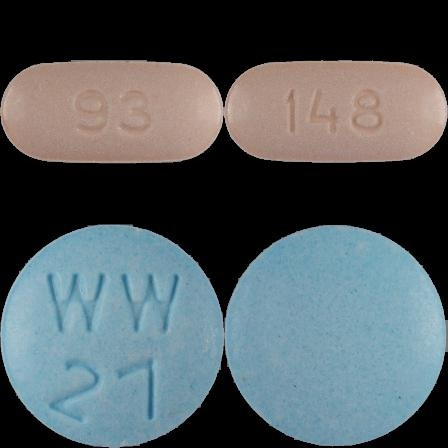0615-1504: (0, 0, 224, 224)
